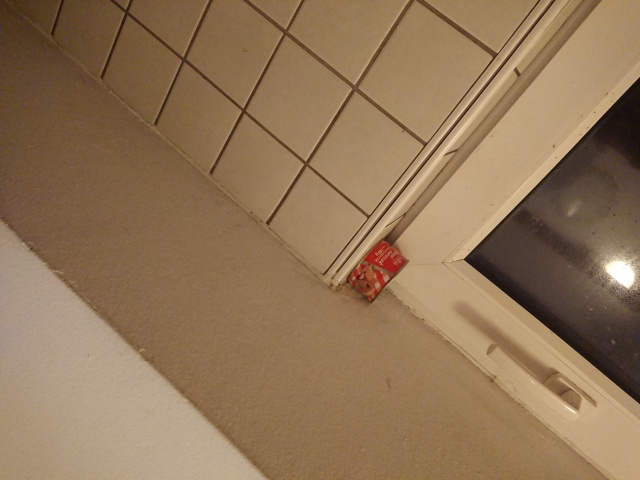Podravka Luncheon Meat 150g: (343, 237, 412, 305)
